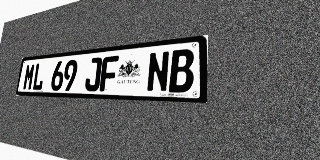6: (50, 61, 65, 91)
9: (62, 59, 78, 91)
B: (169, 48, 194, 93)
F: (99, 56, 119, 92)
J: (84, 57, 102, 91)
L: (32, 62, 46, 90)
M: (22, 63, 36, 90)
N: (146, 51, 170, 92)
